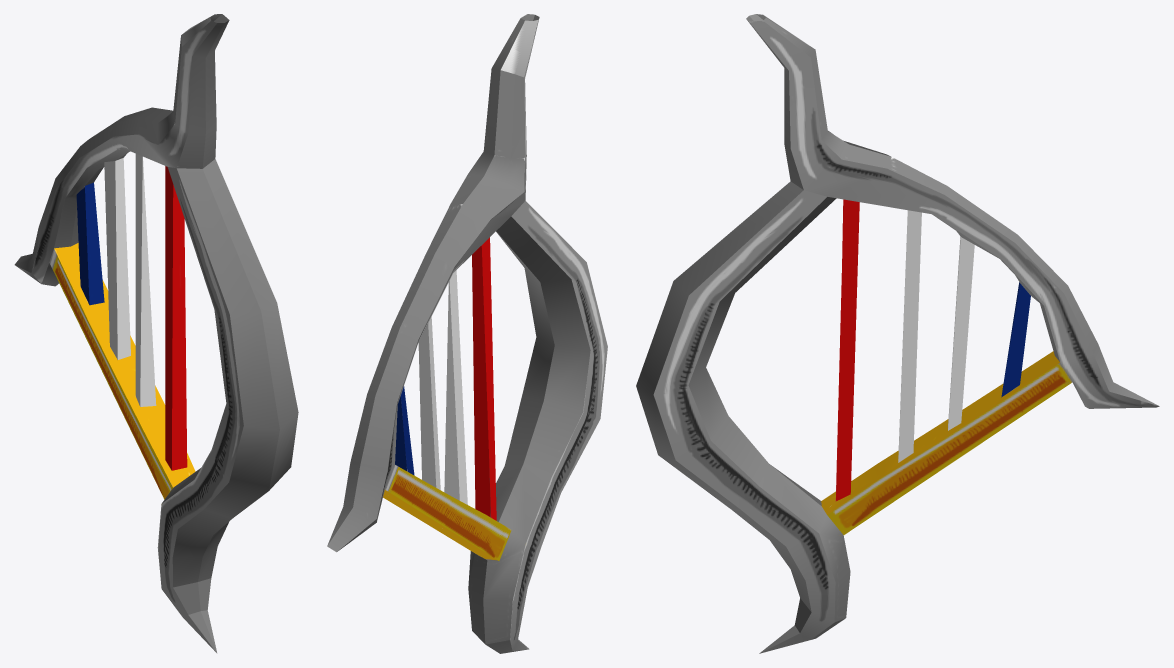
File: Arpa1_000006.obj
The picture shows the model from 3 angles, left to right: view 1: azimuth 30°, elevation 25°; view 2: azimuth 150°, elevation 25°; view 3: azimuth 270°, elevation 25°; orthographic projection.
Visible parts, largest first — view 1: a1_pCube7.001; view 2: a1_pCube7.001; view 3: a1_pCube7.001.
Boxes of the visible parts, x1,y1,x2,y2 form: a1_pCube7.001: (14, 14, 298, 653); a1_pCube7.001: (327, 14, 607, 653); a1_pCube7.001: (636, 14, 1159, 653).
Size of the model in its own units: 1.04 by 10.2 by 7.6.
